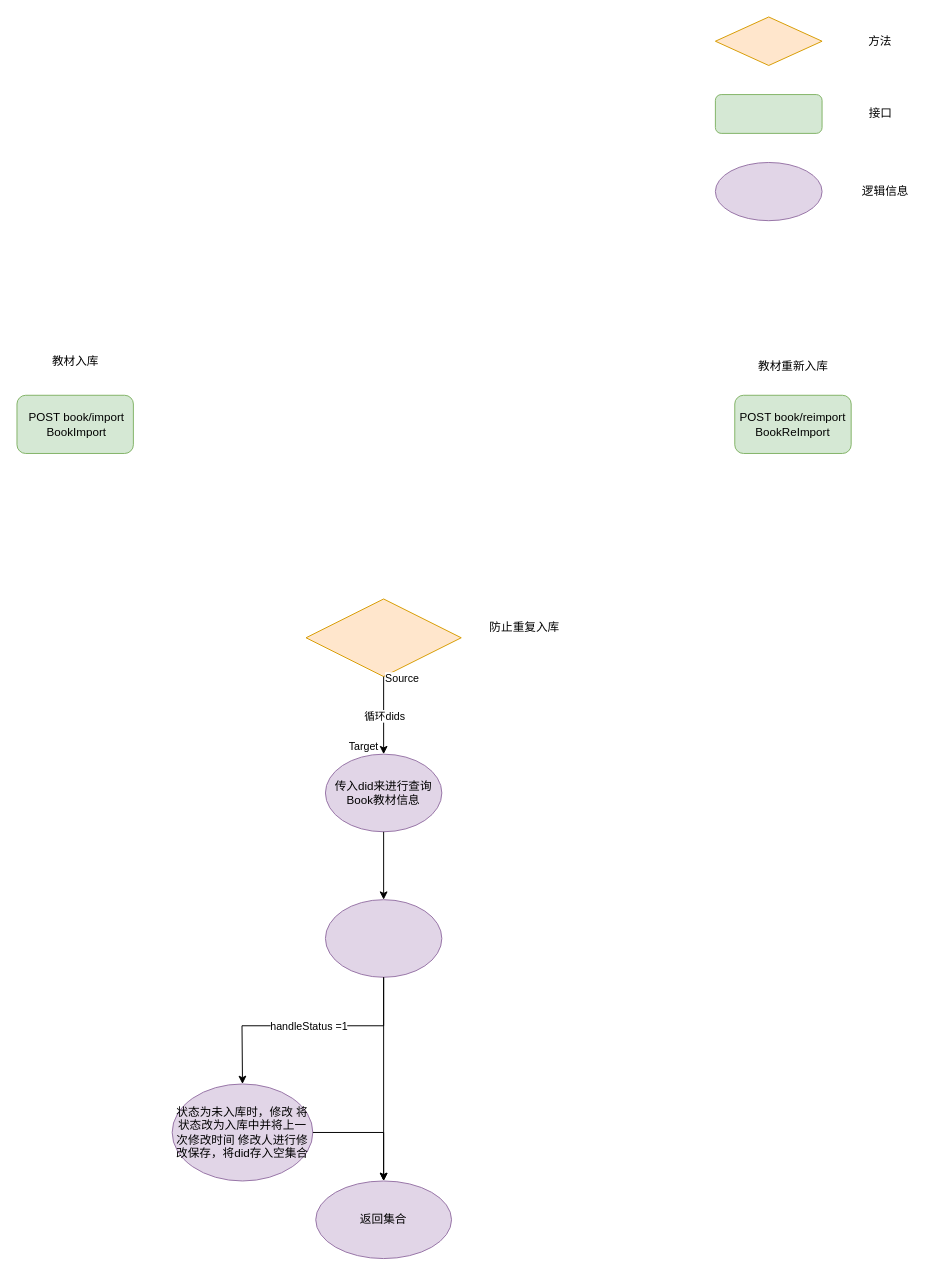
This 936x1276 diagram has some shape labels left out. Here are the shapes that lost their labels. From the top down, the centre of each, then its label:
At point 383,637: "gitDids(dids, userDto)".
At point 383,938: "创建空集合,根据教材信息中handleStatus进行判断".
